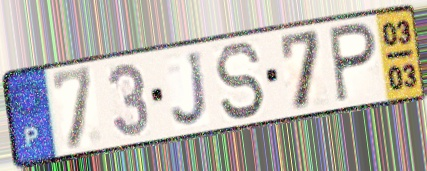3: (104, 61, 152, 142)
7: (49, 64, 96, 154), (278, 28, 325, 114)
J: (169, 48, 212, 129)
P: (327, 20, 380, 106)
S: (211, 40, 268, 123)
